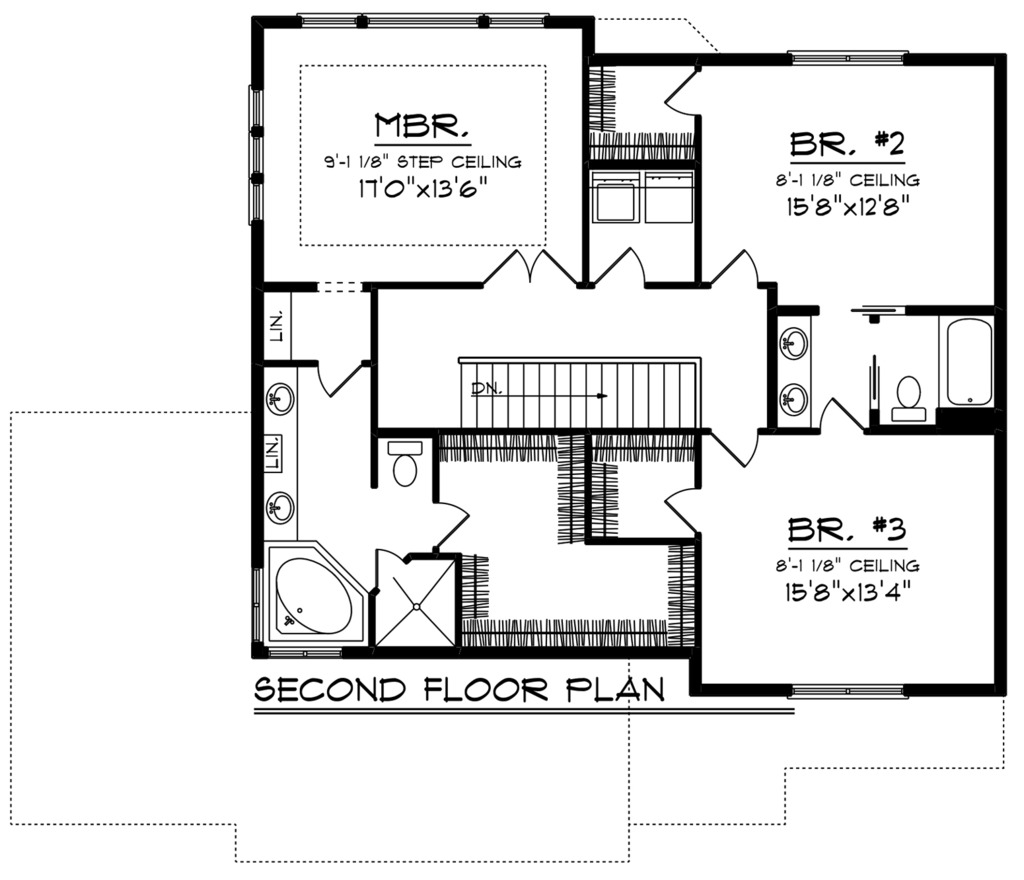door: (486, 245, 574, 290), (701, 243, 771, 291), (593, 250, 657, 294), (661, 64, 705, 126), (663, 481, 711, 532), (435, 501, 483, 552), (810, 393, 863, 438), (306, 358, 372, 394), (708, 421, 758, 467)
large_sink: (876, 368, 932, 428), (372, 435, 426, 494)
small_sink: (260, 484, 315, 541), (252, 373, 294, 428)
stairs: (445, 346, 705, 430)
tub: (942, 316, 993, 410)
window: (235, 82, 271, 230), (289, 13, 553, 32), (786, 46, 909, 71), (790, 682, 906, 699)
